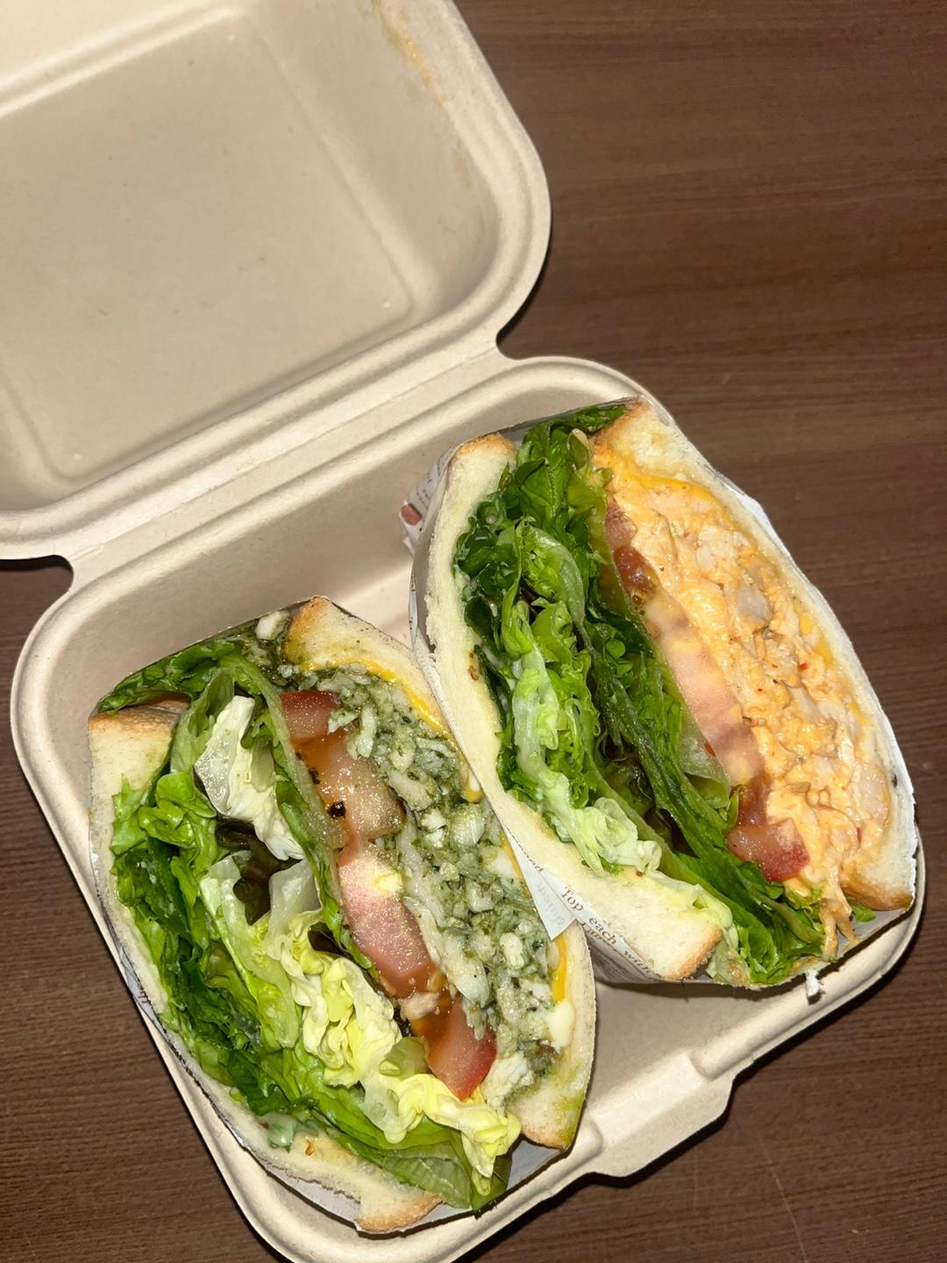Lunch Box: (0, 0, 918, 1262)
